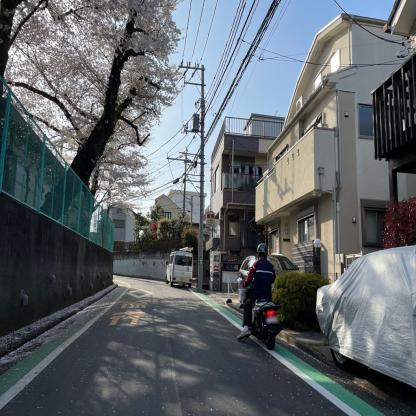Someiyoshino: (0, 0, 200, 238)
